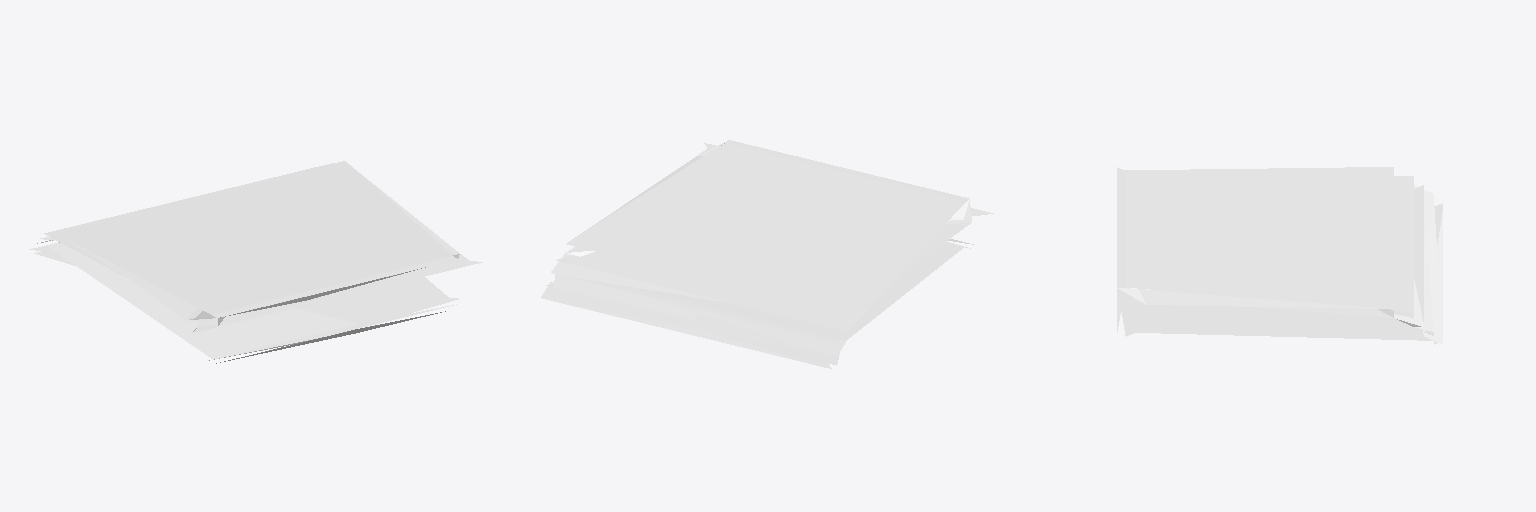
File: Glass-1.obj
3 renders of one model, left to right at view 1: azimuth 30°, elevation 25°; view 2: azimuth 150°, elevation 25°; view 3: azimuth 270°, elevation 25°, orthographic.
Size of the model in its own units: 34 by 6 by 33.